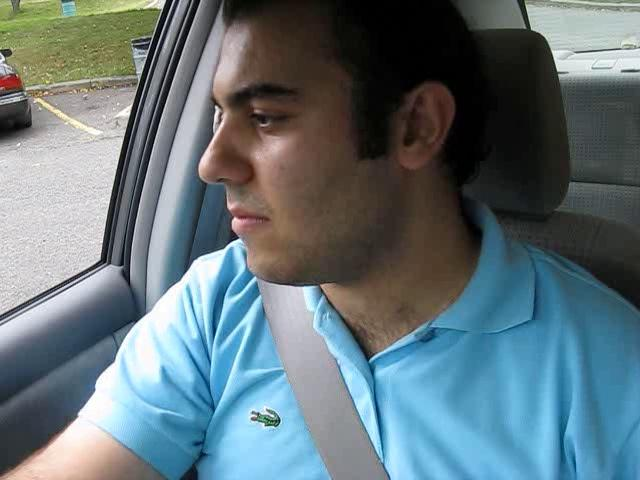no_yawn: (212, 189, 285, 244)
open_eyeR: (232, 91, 308, 144)
